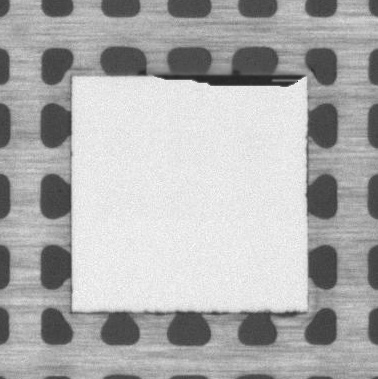DIE_BROKEN: (150, 72, 307, 87)
